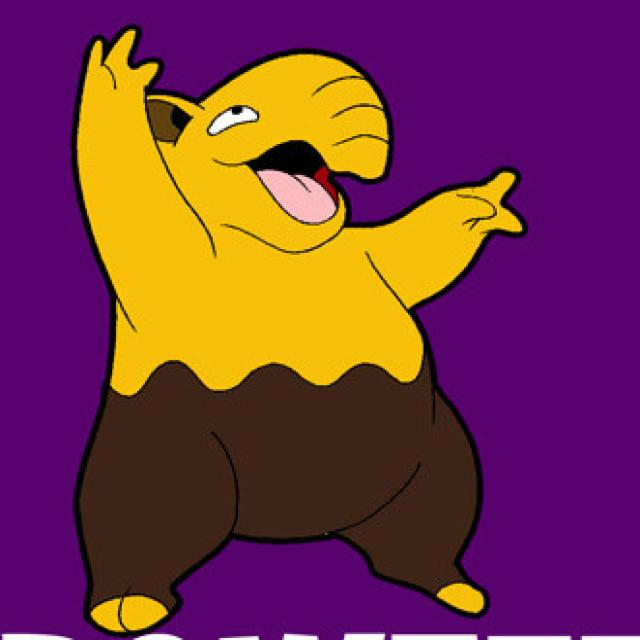Drowzee: (70, 34, 529, 632)
